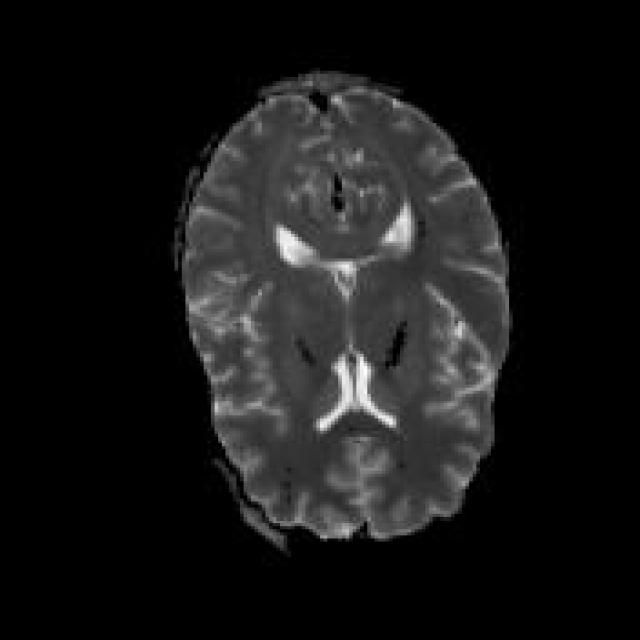CONTROL: (171, 68, 513, 548)
